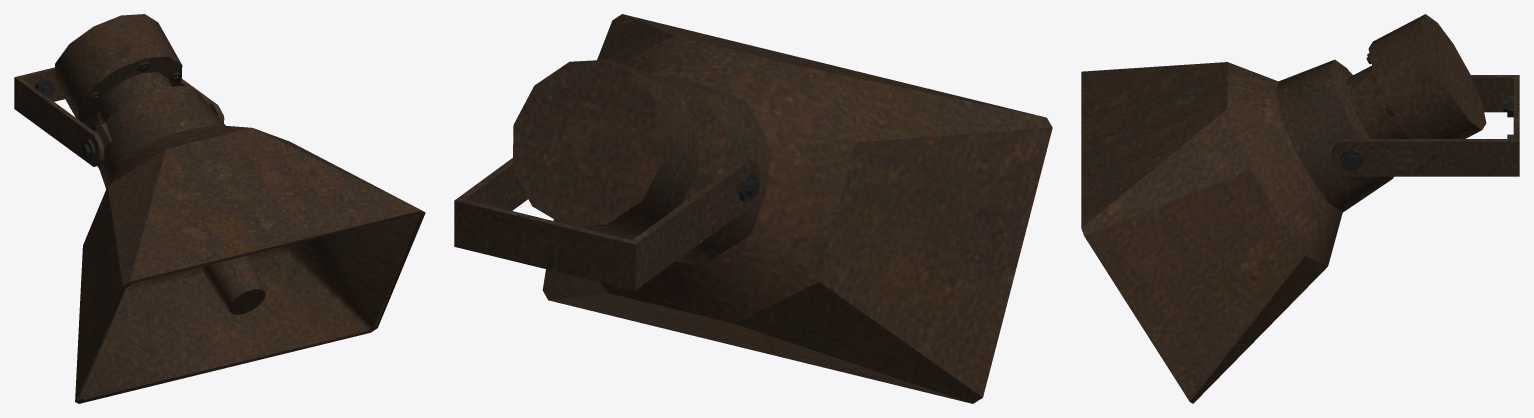
The model's file is speaker_mx_1_2.obj.
The picture shows the model from 3 angles, left to right: view 1: azimuth 30°, elevation 25°; view 2: azimuth 150°, elevation 25°; view 3: azimuth 270°, elevation 25°; orthographic projection. The views are drawn at different scales.
Parts seen in each view (by area): view 1: speaker_mx_1_2; view 2: speaker_mx_1_2; view 3: speaker_mx_1_2.
Boxes of the visible parts, x1,y1,x2,y2 form: speaker_mx_1_2: [14, 14, 425, 403]; speaker_mx_1_2: [454, 14, 1052, 403]; speaker_mx_1_2: [1081, 14, 1519, 403].
Size of the model in its own units: 0.4947 by 0.4325 by 0.564.
